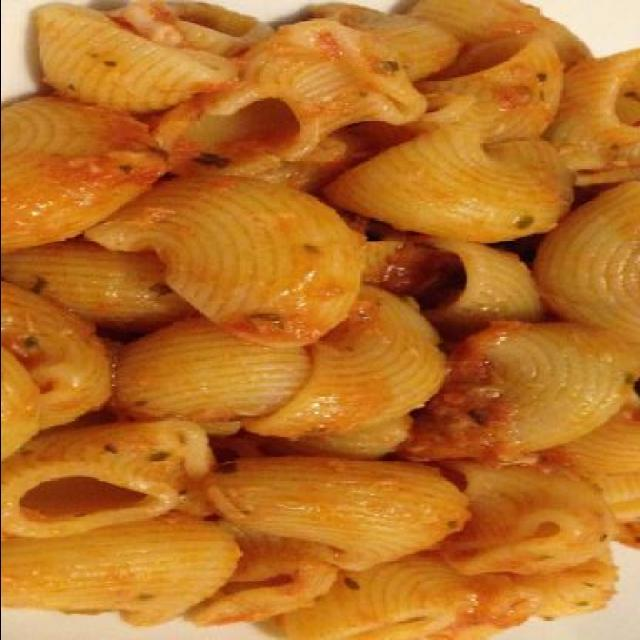Pasta al ragu: (1, 8, 625, 617)
